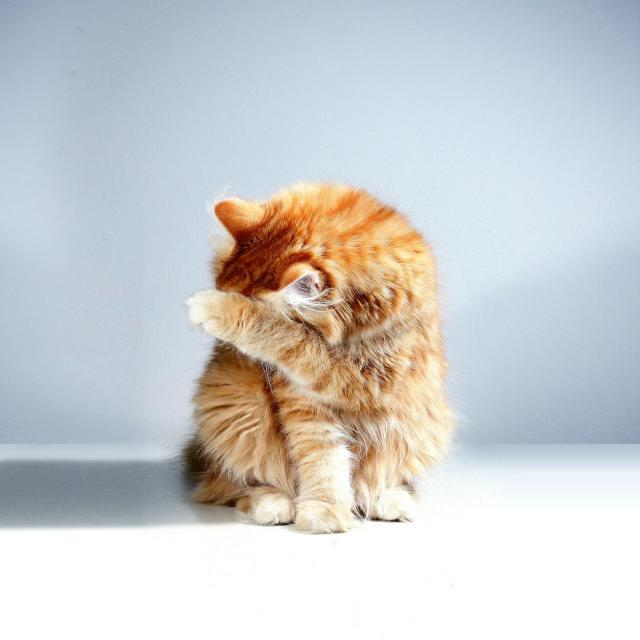Cat: (178, 180, 458, 534)
